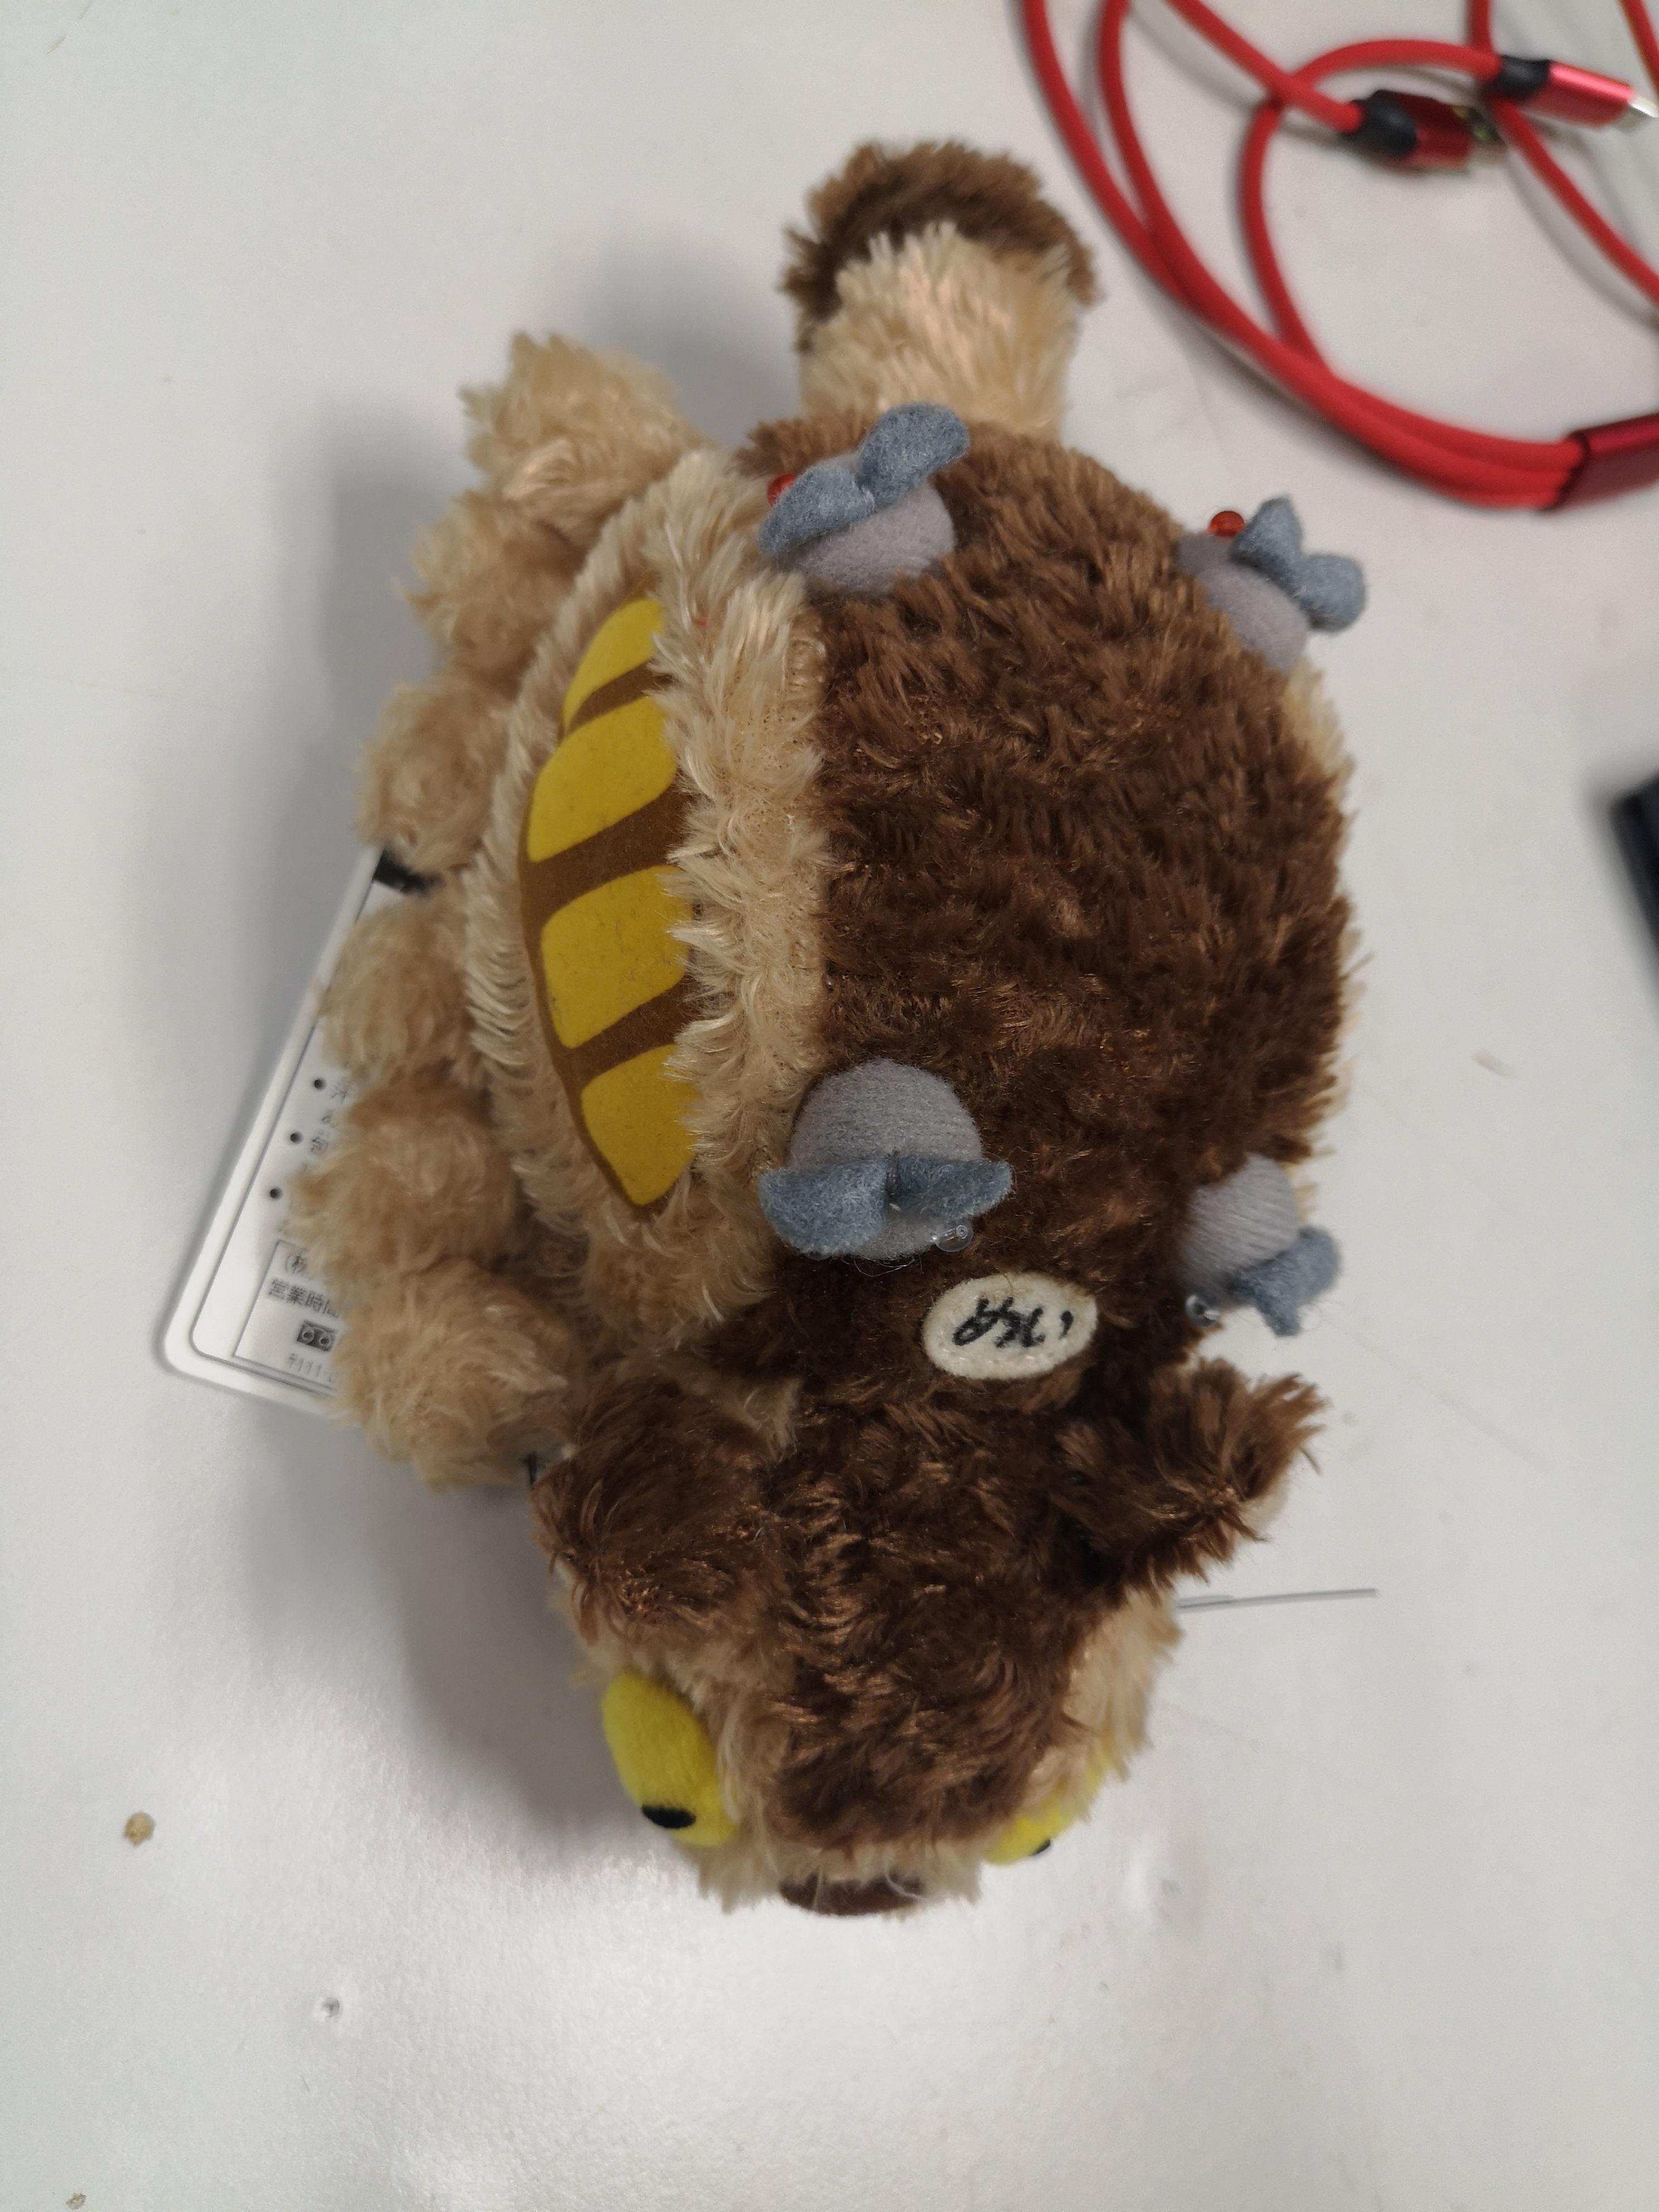nekobus: (272, 84, 1382, 1947)
